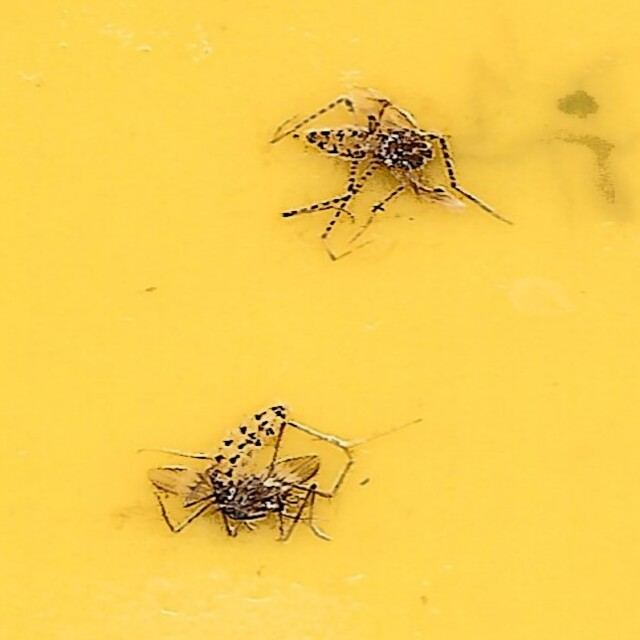Nematocera: (280, 100, 507, 253), (133, 404, 331, 540)
